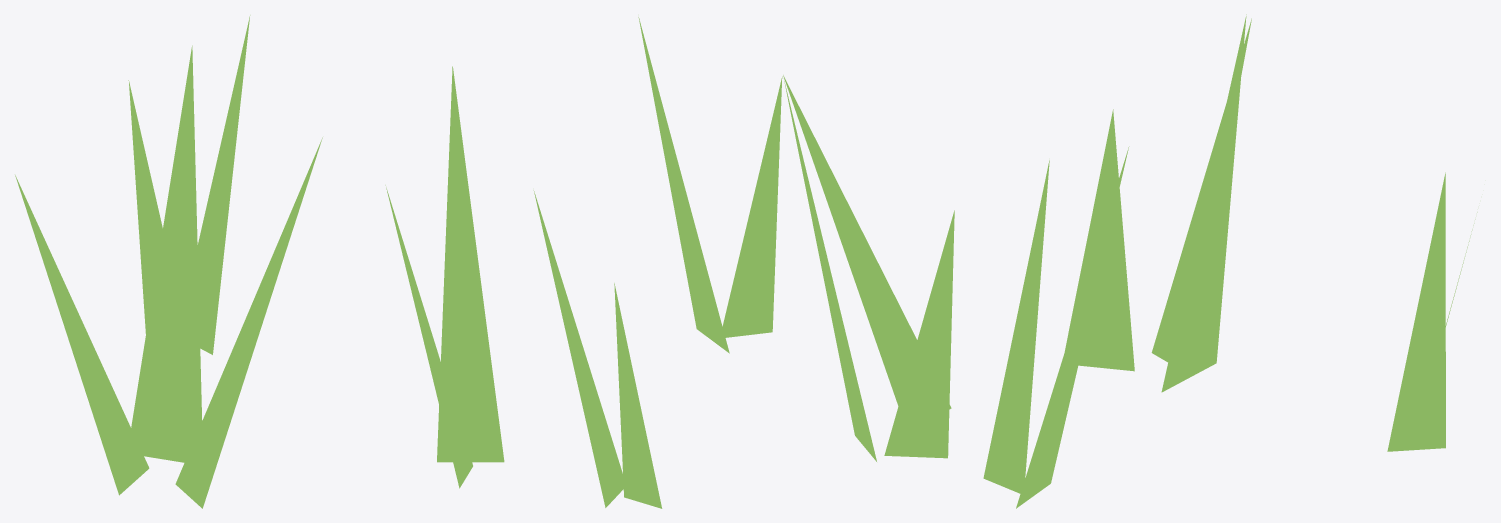
File: Grass_c_OneS_06.fbx
3 renders of one model, left to right at view 1: azimuth 30°, elevation 25°; view 2: azimuth 150°, elevation 25°; view 3: azimuth 270°, elevation 25°, orthographic. The views are drawn at different scales.
Parts seen in each view (by area): view 1: Grass_c_OneS_06; view 2: Grass_c_OneS_06; view 3: Grass_c_OneS_06.
Part boxes in pixels (x1,y1,x2,y2): Grass_c_OneS_06: [15, 15, 504, 508]; Grass_c_OneS_06: [533, 17, 954, 508]; Grass_c_OneS_06: [983, 14, 1477, 508].
Size of the model in its own units: 0.5863 by 0.5751 by 0.6577.
